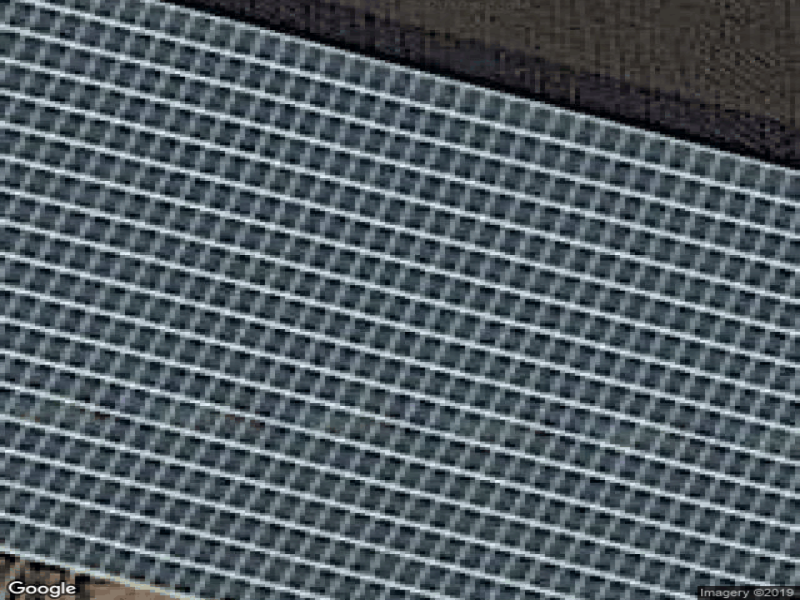pv: (3, 1, 800, 597)
